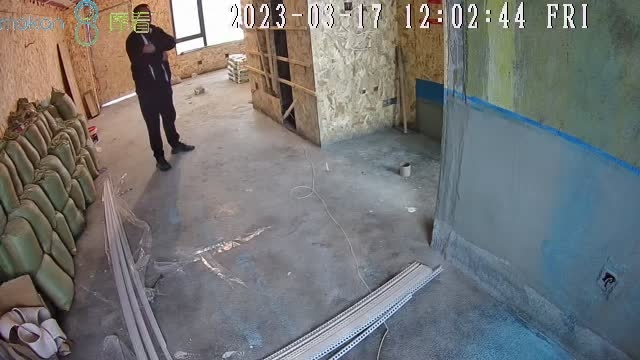people: (127, 4, 197, 171)
window: (173, 1, 244, 53)
